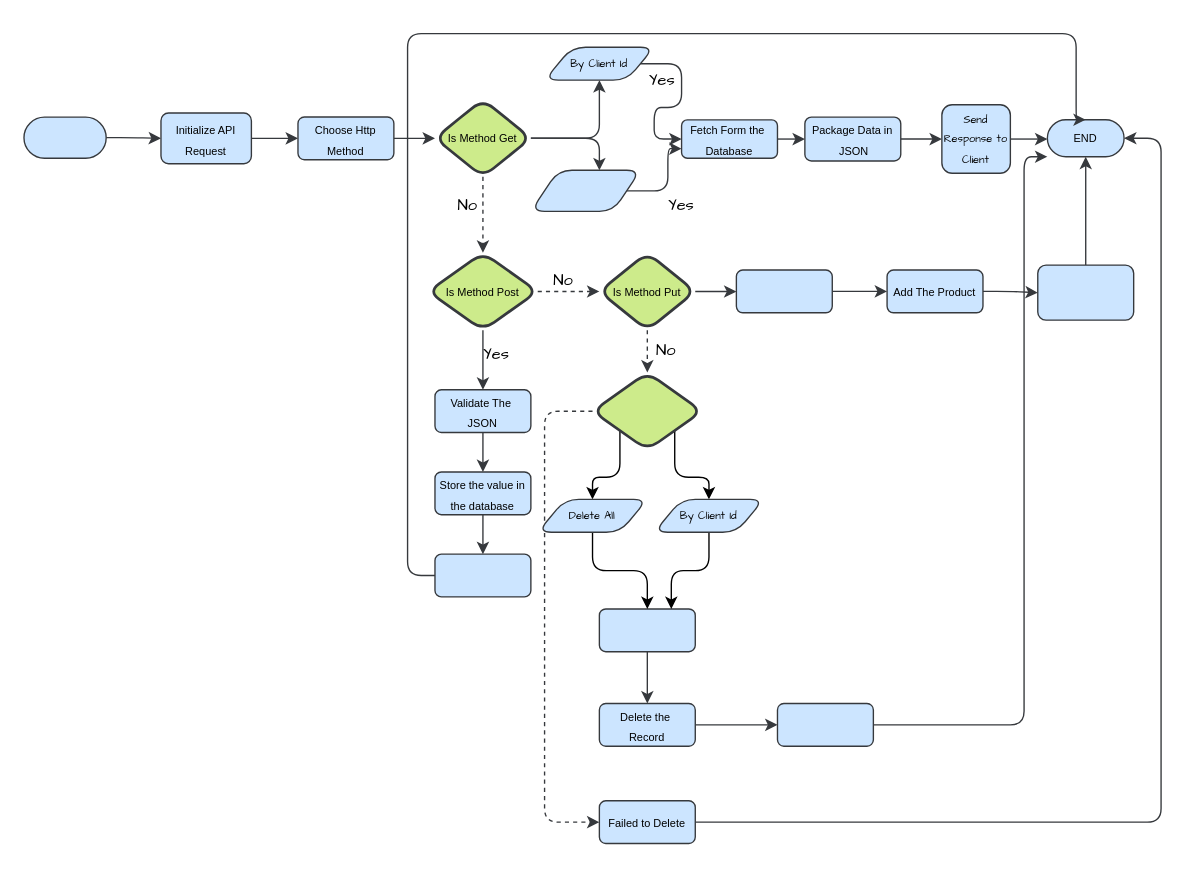
This 1196x869 diagram has some shape labels left out. Each missing label, with the centre of its shape:
By Account Id: the point at 585,190
Is Method Delete: the point at 646,410
Locate the Record for Deletion: the point at 646,630
Send Confirmation to Client: the point at 824,724
Send Confirmation to the Client: the point at 482,575
Send Update Confirmation to the Client: the point at 1085,292
Start: the point at 64,137
Validate The Input: the point at 783,291
